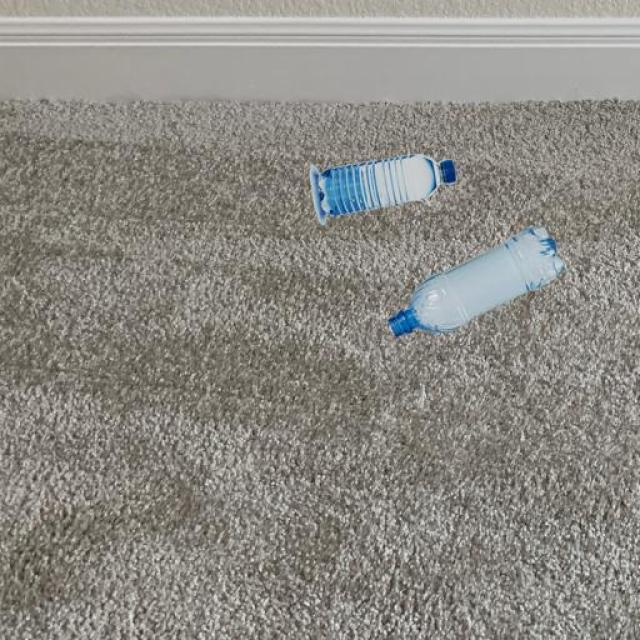bottle: (387, 224, 568, 338), (308, 152, 457, 226)
